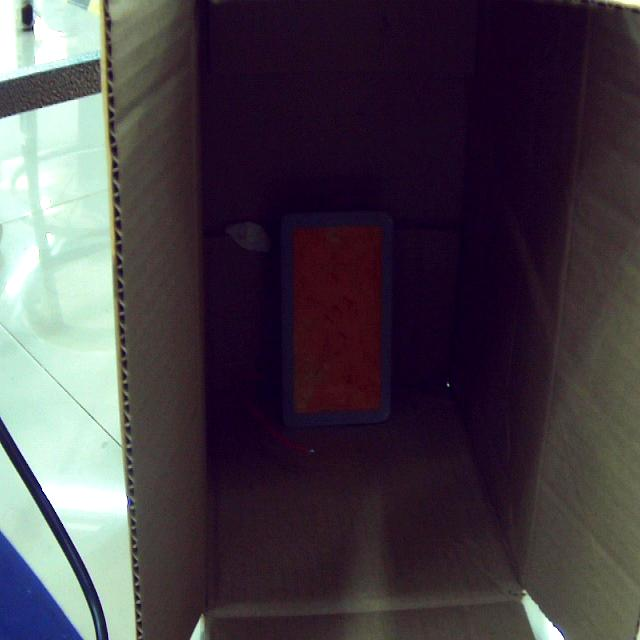block: (279, 207, 395, 432)
